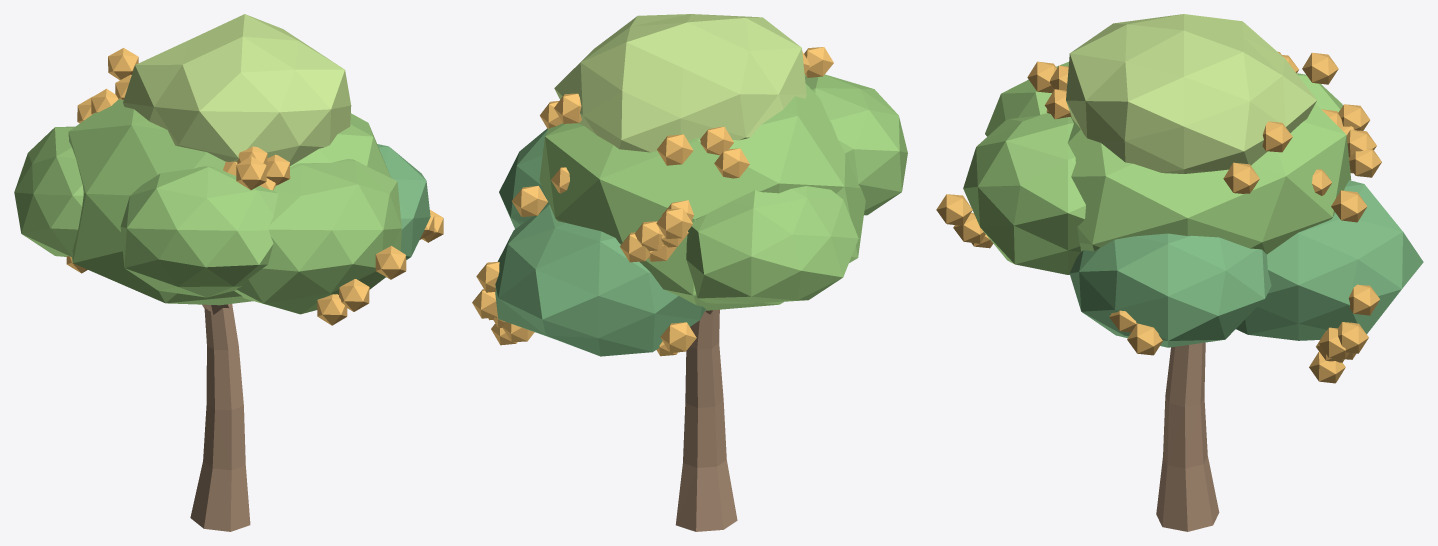
File: laranjeira_1.fbx
3 renders of one model, left to right at view 1: azimuth 30°, elevation 25°; view 2: azimuth 150°, elevation 25°; view 3: azimuth 270°, elevation 25°, orthographic. The views are drawn at different scales.
Parts seen in each view (by area): view 1: laranjeira_1~Copa 6@leaflight, laranjeira_1~Copa 5@leaf, laranjeira_1~Copa 4@leaf, laranjeira_1~Copa 0@leaf, laranjeira_1~Tronco@bark, laranjeira_1~Copa 3@leaf, laranjeira_1~Copa 1@leafdark, laranjeira_1~Fruta 18@orange, laranjeira_1~Fruta 28@orange, laranjeira_1~Fruta 1@orange, laranjeira_1~Fruta 2@orange, laranjeira_1~Fruta 19@orange (+1 smaller); view 2: laranjeira_1~Copa 0@leaf, laranjeira_1~Copa 6@leaflight, laranjeira_1~Copa 2@leafdark, laranjeira_1~Copa 3@leaf, laranjeira_1~Tronco@bark, laranjeira_1~Copa 4@leaf, laranjeira_1~Copa 1@leafdark, laranjeira_1~Fruta 19@orange, laranjeira_1~Fruta 27@orange, laranjeira_1~Fruta 30@orange, laranjeira_1~Fruta 6@orange, laranjeira_1~Fruta 9@orange (+7 smaller); view 3: laranjeira_1~Copa 6@leaflight, laranjeira_1~Copa 0@leaf, laranjeira_1~Copa 1@leafdark, laranjeira_1~Copa 2@leafdark, laranjeira_1~Copa 5@leaf, laranjeira_1~Tronco@bark, laranjeira_1~Copa 4@leaf, laranjeira_1~Fruta 18@orange, laranjeira_1~Fruta 27@orange, laranjeira_1~Fruta 19@orange, laranjeira_1~Fruta 13@orange, laranjeira_1~Fruta 17@orange (+10 smaller).
Part boxes in pixels (x1=…): laranjeira_1~Copa 6@leaflight: x1=123, y1=14, x2=351, y2=165; laranjeira_1~Copa 5@leaf: x1=234, y1=159, x2=401, y2=314; laranjeira_1~Copa 4@leaf: x1=120, y1=166, x2=278, y2=297; laranjeira_1~Copa 0@leaf: x1=68, y1=99, x2=390, y2=305; laranjeira_1~Tronco@bark: x1=190, y1=304, x2=250, y2=531; laranjeira_1~Copa 3@leaf: x1=14, y1=126, x2=83, y2=256; laranjeira_1~Copa 1@leafdark: x1=377, y1=144, x2=430, y2=259; laranjeira_1~Fruta 18@orange: x1=375, y1=246, x2=406, y2=279; laranjeira_1~Fruta 28@orange: x1=236, y1=156, x2=266, y2=189; laranjeira_1~Fruta 1@orange: x1=339, y1=279, x2=369, y2=311; laranjeira_1~Fruta 2@orange: x1=317, y1=294, x2=347, y2=325; laranjeira_1~Fruta 19@orange: x1=108, y1=48, x2=138, y2=79; laranjeira_1~Copa 0@leaf: x1=539, y1=84, x2=865, y2=310; laranjeira_1~Copa 6@leaflight: x1=554, y1=14, x2=806, y2=152; laranjeira_1~Copa 2@leafdark: x1=495, y1=204, x2=705, y2=356; laranjeira_1~Copa 3@leaf: x1=686, y1=186, x2=858, y2=303; laranjeira_1~Tronco@bark: x1=675, y1=309, x2=737, y2=531; laranjeira_1~Copa 4@leaf: x1=805, y1=74, x2=907, y2=215; laranjeira_1~Copa 1@leafdark: x1=499, y1=128, x2=549, y2=228; laranjeira_1~Fruta 19@orange: x1=657, y1=134, x2=693, y2=165; laranjeira_1~Fruta 27@orange: x1=512, y1=185, x2=547, y2=216; laranjeira_1~Fruta 30@orange: x1=656, y1=208, x2=692, y2=238; laranjeira_1~Fruta 6@orange: x1=660, y1=322, x2=696, y2=352; laranjeira_1~Fruta 9@orange: x1=714, y1=148, x2=749, y2=178; laranjeira_1~Copa 6@leaflight: x1=1066, y1=14, x2=1316, y2=173; laranjeira_1~Copa 0@leaf: x1=1067, y1=104, x2=1351, y2=254; laranjeira_1~Copa 1@leafdark: x1=1069, y1=233, x2=1271, y2=347; laranjeira_1~Copa 2@leafdark: x1=1236, y1=180, x2=1423, y2=340; laranjeira_1~Copa 5@leaf: x1=963, y1=113, x2=1085, y2=274; laranjeira_1~Tronco@bark: x1=1156, y1=342, x2=1219, y2=531; laranjeira_1~Copa 4@leaf: x1=985, y1=62, x2=1068, y2=136; laranjeira_1~Fruta 18@orange: x1=936, y1=194, x2=972, y2=225; laranjeira_1~Fruta 27@orange: x1=1331, y1=190, x2=1367, y2=222; laranjeira_1~Fruta 19@orange: x1=1302, y1=52, x2=1338, y2=84; laranjeira_1~Fruta 13@orange: x1=1223, y1=162, x2=1259, y2=193; laranjeira_1~Fruta 17@orange: x1=1127, y1=323, x2=1162, y2=355.
Bounding box in the file's own units: 3.57 × 4.45 × 3.95.
